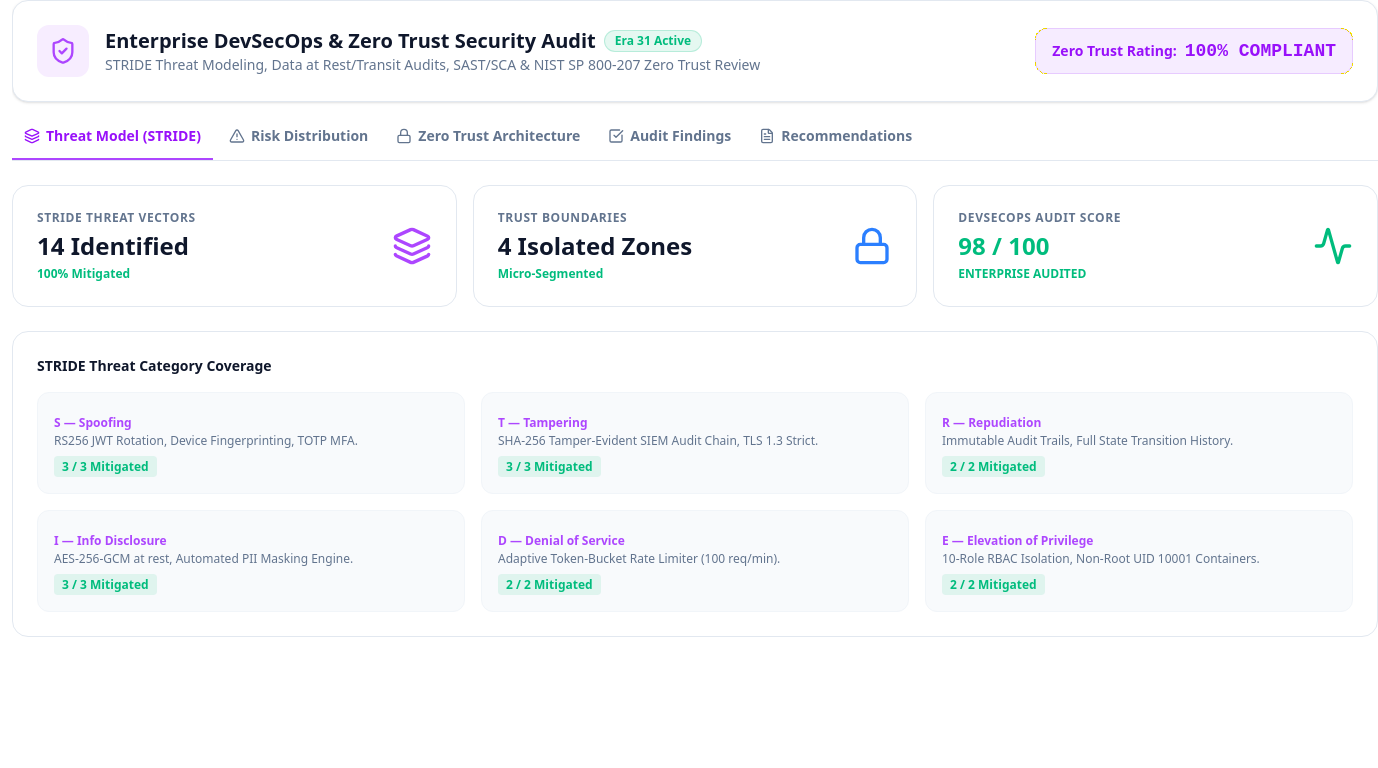
Test case: SecurityAuditReviewDashboard › clicking Zero Trust Architecture tab shows NIST principles
Click the button "Zero Trust Architecture": click(488, 143) [384,126,592,160]
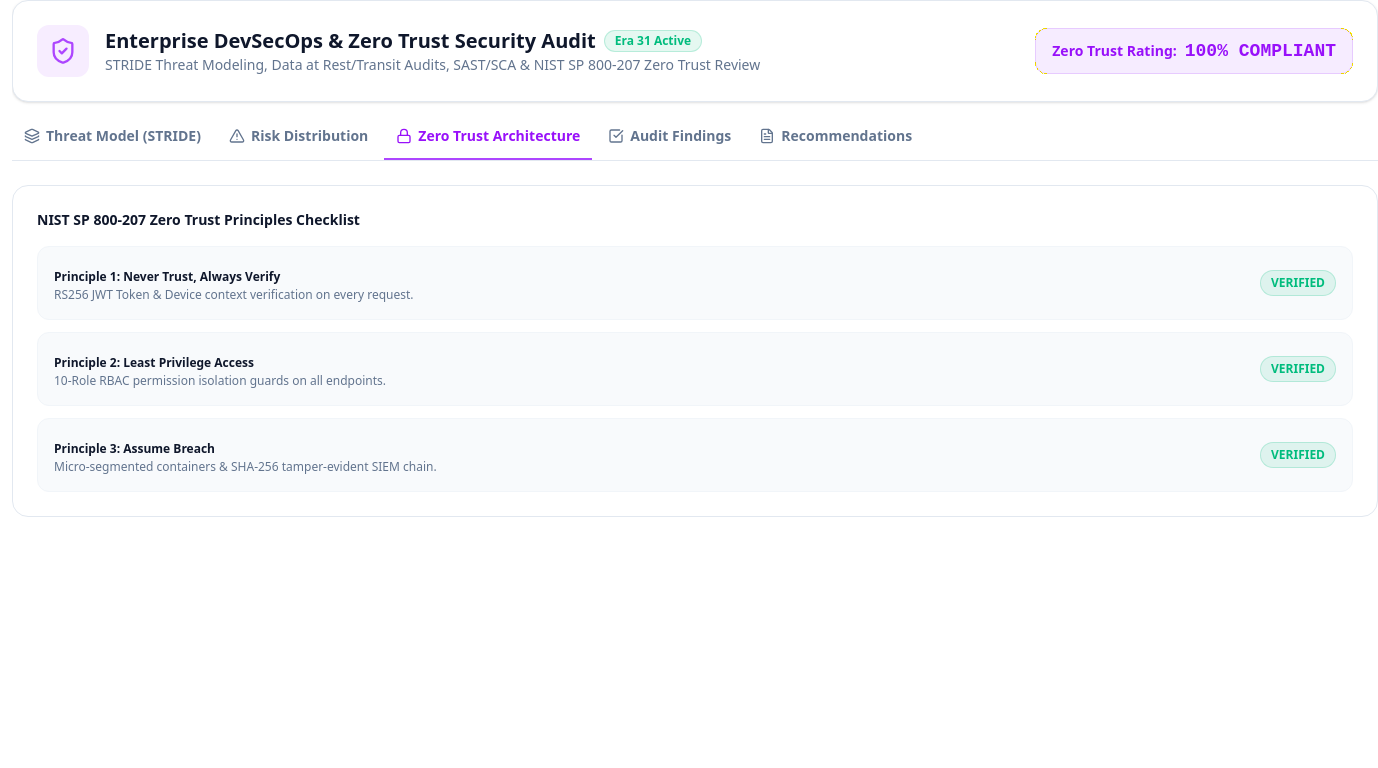
Expected: the heading "NIST SP 800-207 Zero Trust Principles Checklist" is shown, [37,210,360,229]
Expected: the text "Principle 1: Never Trust, Always Verify" is shown, [54,268,280,285]
